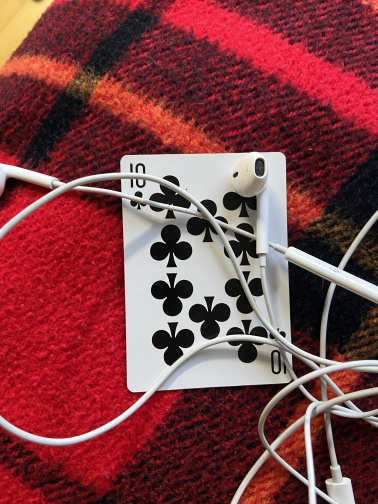ten: (118, 149, 295, 394)
